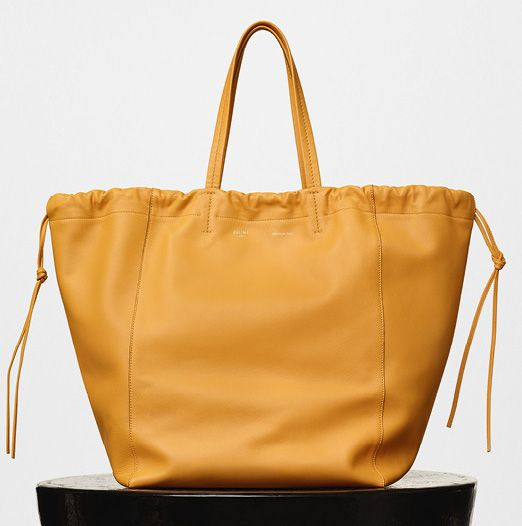nylon: (41, 21, 476, 488)
